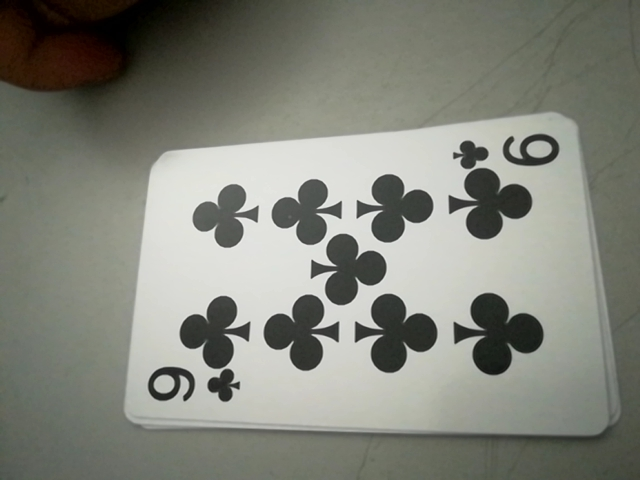mh 9: (140, 360, 246, 417), (448, 126, 565, 173)
